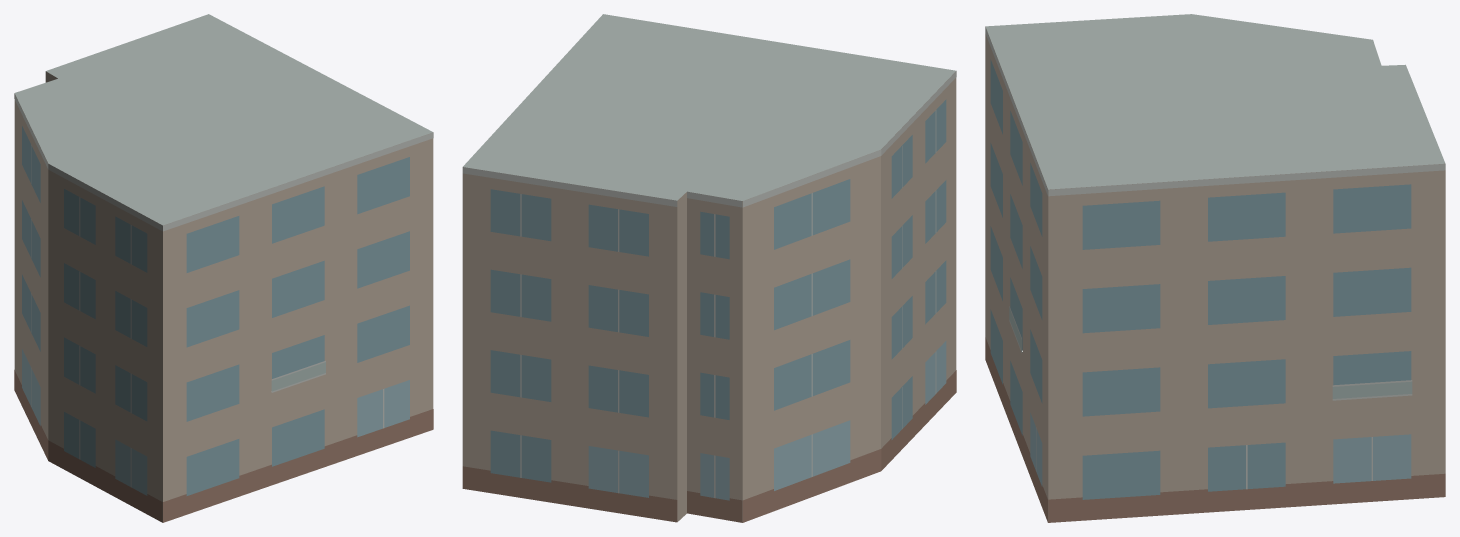
Rendered from survey-upis-32481974.glb.
3 views of the same model, side by side, from view 1: azimuth 30°, elevation 25°; view 2: azimuth 150°, elevation 25°; view 3: azimuth 270°, elevation 25° (orthographic). The views are drawn at different scales.
Parts seen in each view (by area): view 1: survey-upis-32481974.tmp; view 2: survey-upis-32481974.tmp; view 3: survey-upis-32481974.tmp.
Part boxes in pixels (x1,y1,x2,y2): survey-upis-32481974.tmp: [14, 14, 433, 522]; survey-upis-32481974.tmp: [462, 14, 956, 522]; survey-upis-32481974.tmp: [985, 14, 1445, 522].
Size of the model in its own units: 13.7 by 12.12 by 15.17.
